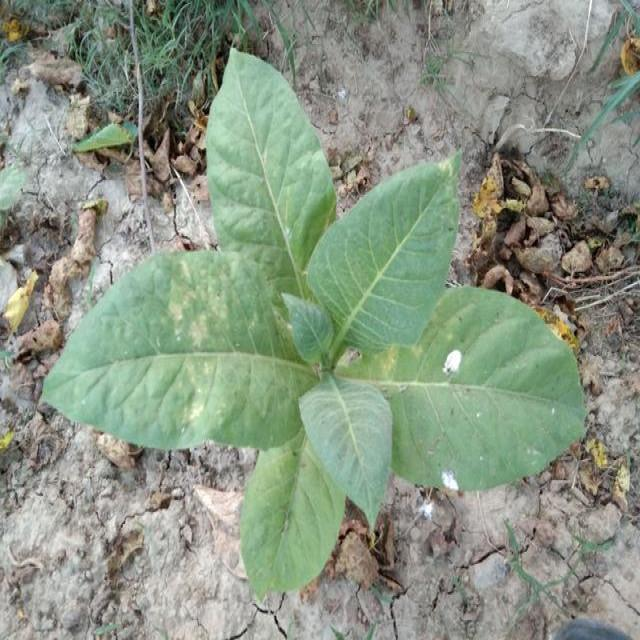crop: (58, 62, 580, 592)
